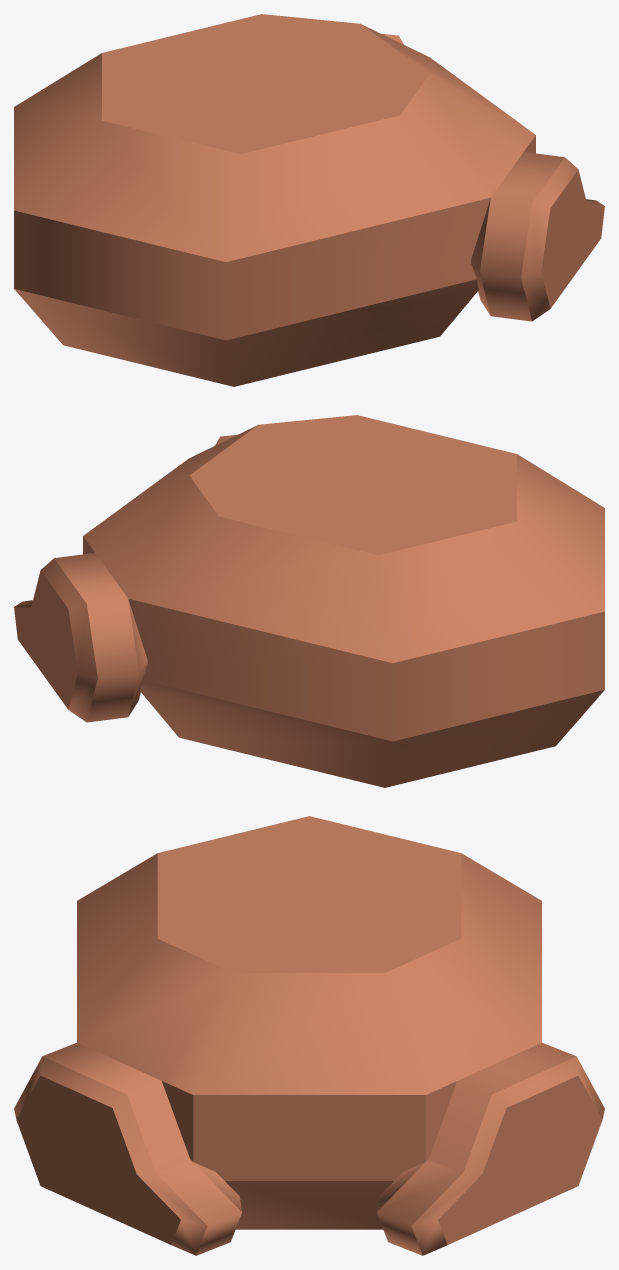
File: turkey.GLB
3 renders of one model, top to bottom at view 1: azimuth 30°, elevation 25°; view 2: azimuth 150°, elevation 25°; view 3: azimuth 270°, elevation 25°, orthographic. The views are drawn at different scales.
Visible parts, largest first — view 1: turkey; view 2: turkey; view 3: turkey.
Boxes of the visible parts, bbox=[...] form: turkey: bbox=[14, 14, 604, 386]; turkey: bbox=[14, 415, 604, 787]; turkey: bbox=[14, 816, 604, 1255].
Bounding box in the file's own units: 0.7478 × 0.2871 × 0.6513.
